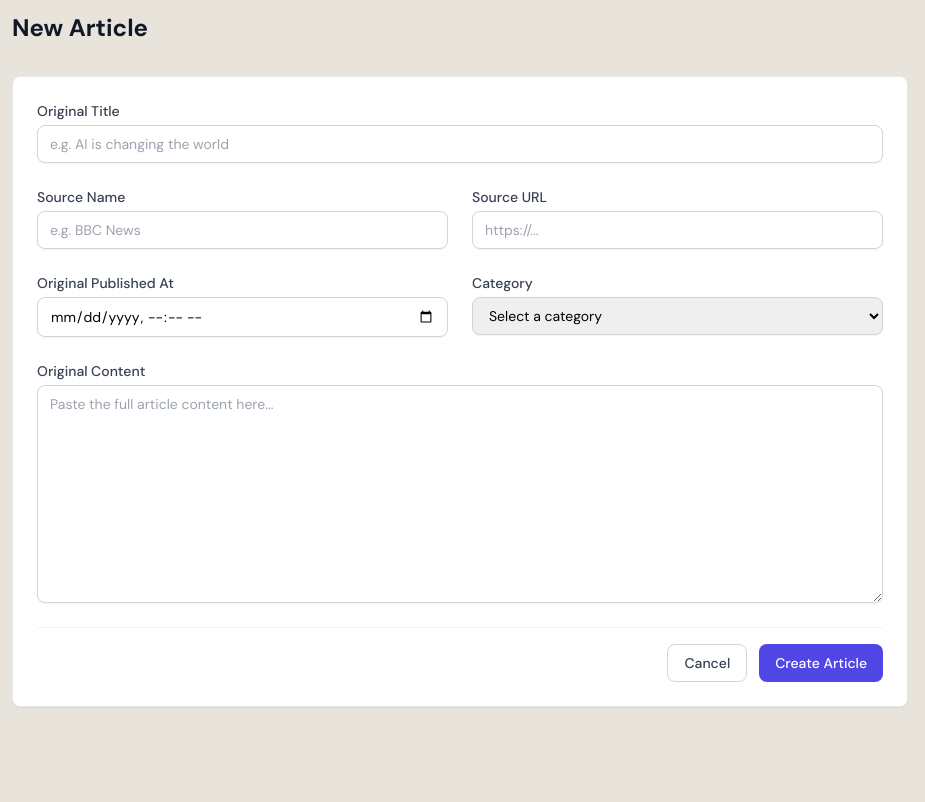
Test: ArticleCreatePage › shows error alert on API failure
Type "Test Title" into the field labelled "Original Title".
click(460, 144); type("Test Title")  # box top-left (37, 125), bottom-right (883, 163)
Type "BBC" into the field labelled "Source Name".
click(242, 230); type("BBC")  # box top-left (37, 211), bottom-right (448, 249)
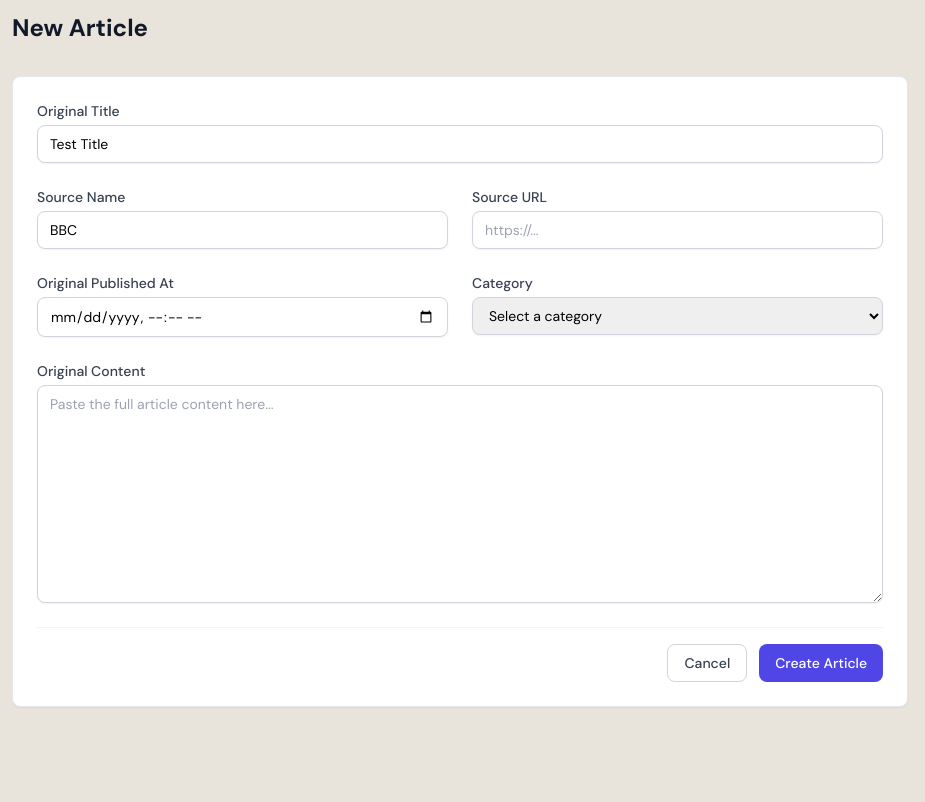
Type "https://bbc.com" into the field labelled "Source URL".
click(678, 230); type("https://bbc.com")  # box top-left (472, 211), bottom-right (883, 249)
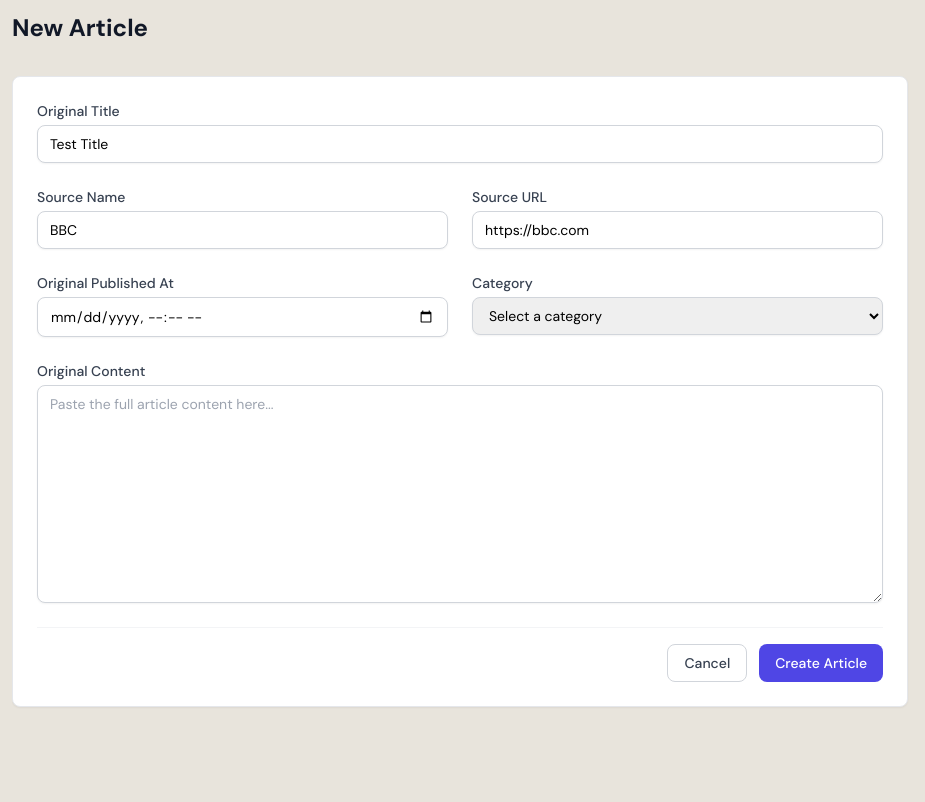
Type "content" into the text box labelled "Original Content".
click(460, 494); type("content")  # box top-left (37, 385), bottom-right (883, 603)
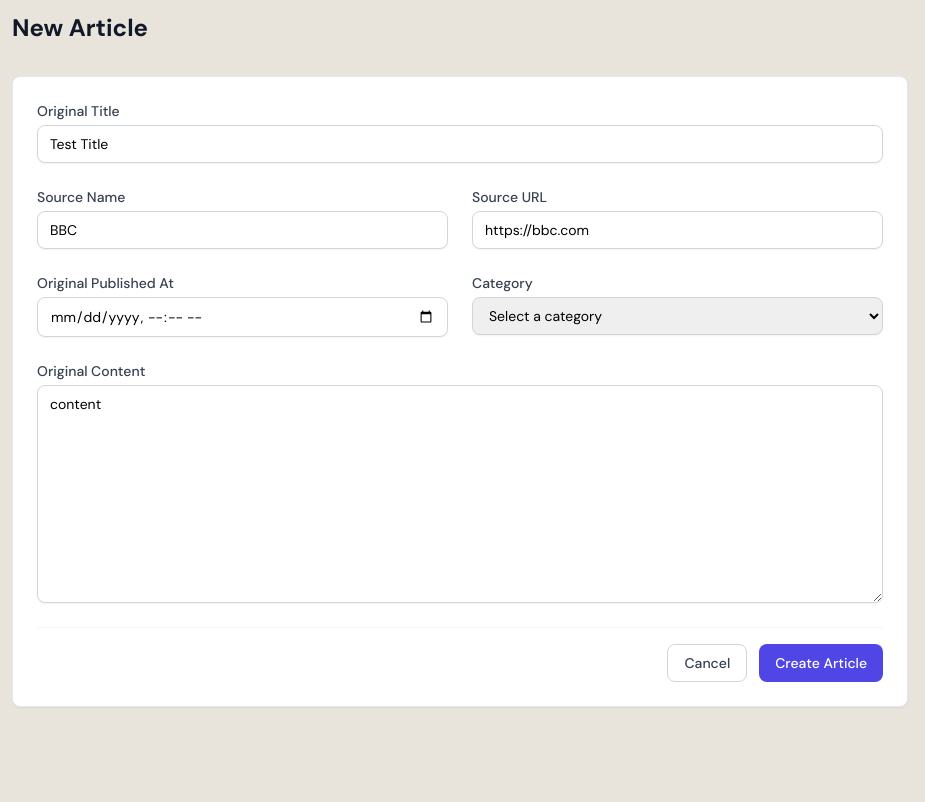
Type "2026-04-26T14:30" into the field labelled "Original Published At".
click(242, 317); type("2026-04-26T14:30")  # box top-left (37, 297), bottom-right (448, 337)
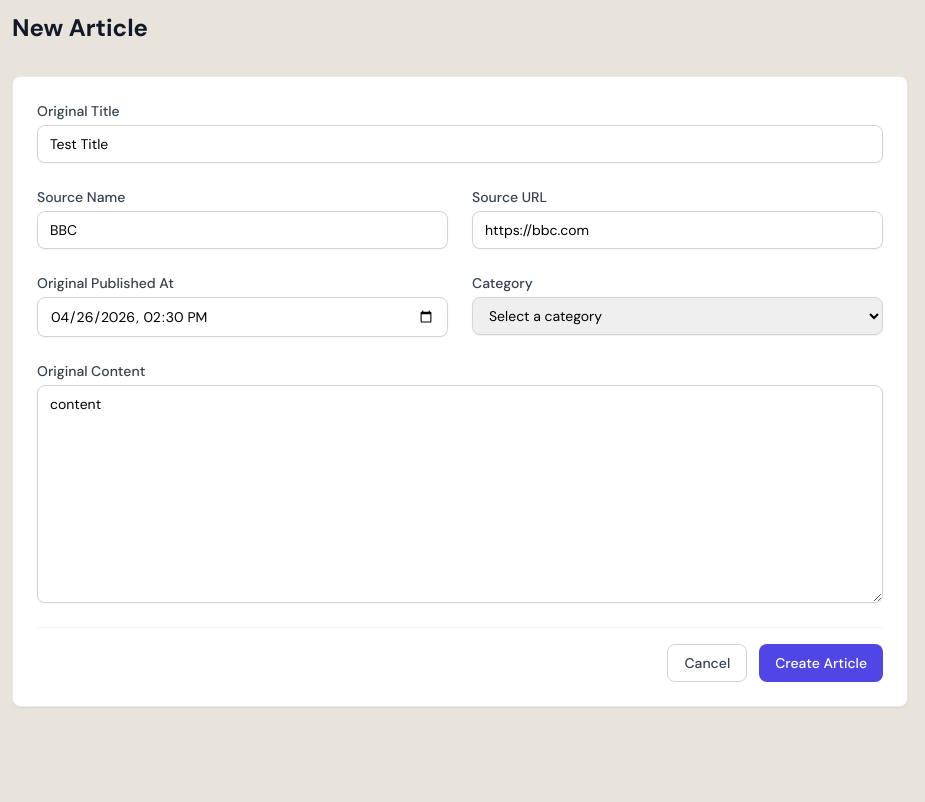
Select "Tech" in the dropdown labelled "Category" at (678, 316), box top-left (472, 297), bottom-right (883, 335)
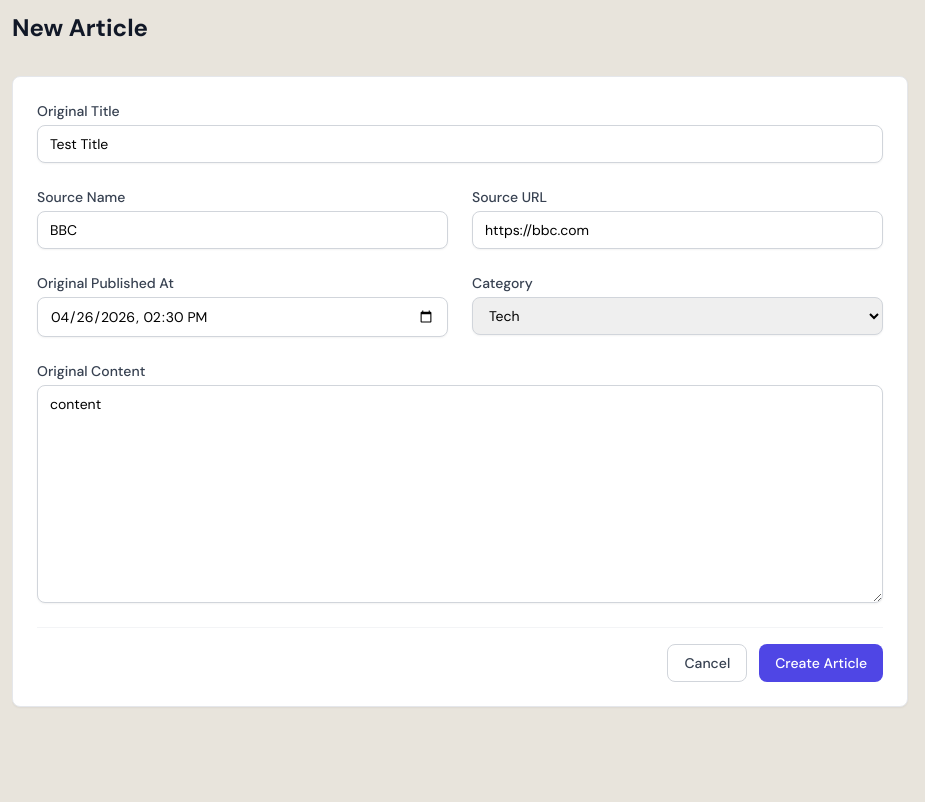
Submit the form labelled "Original Title"
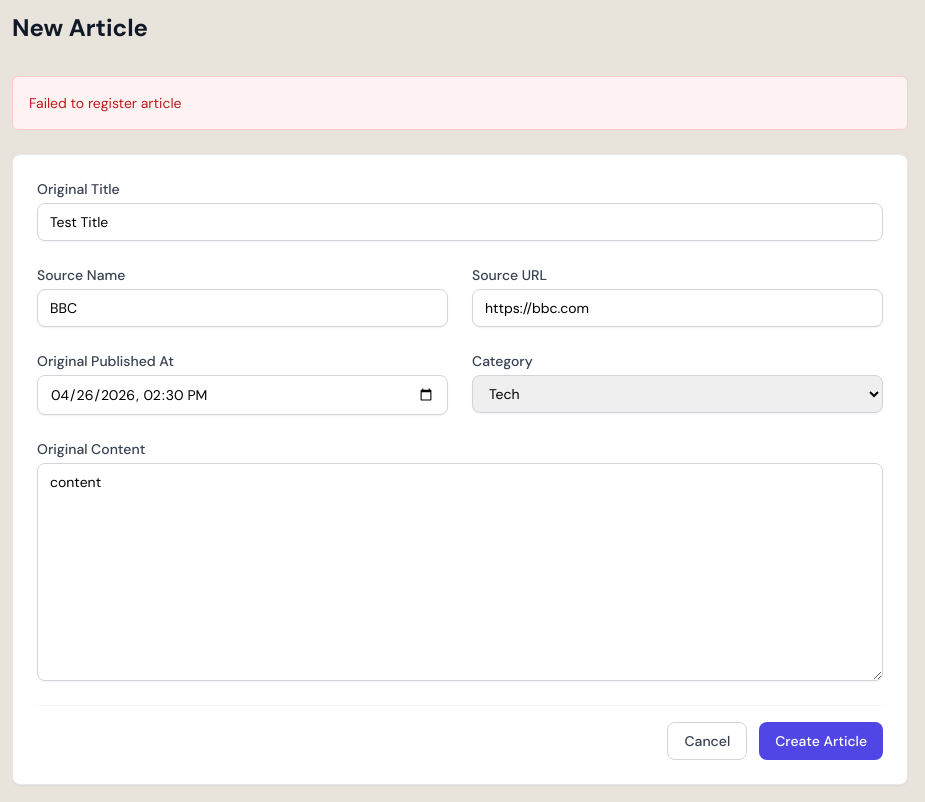
Result: the text "Failed to register article" is shown at top-left (29, 94), bottom-right (182, 112)
